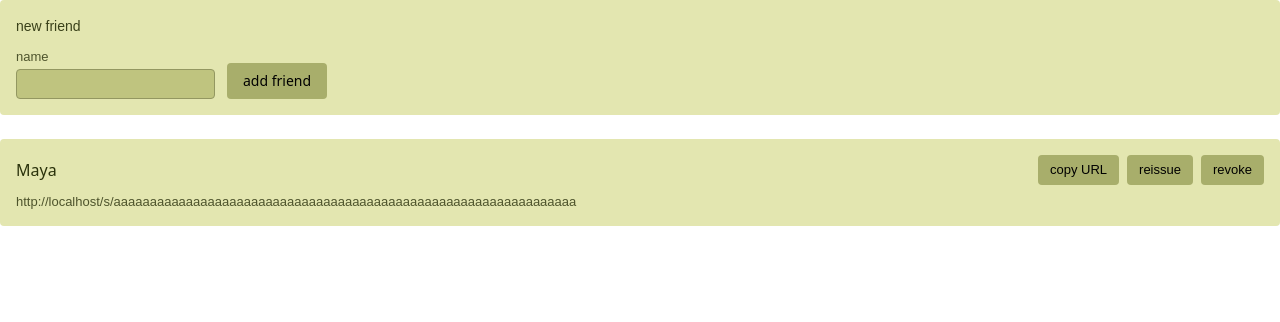
it: Friends › reissue › hedges the failure copy — the client can't know whether the old link survived
The width and height of the screenshot is (1280, 322).
Expected: the text "Maya" is shown, [16, 158, 57, 182]
Step 1. Click the button with aria-label "reissue shelf link for maya" → (1160, 170), box [1127, 155, 1193, 185]
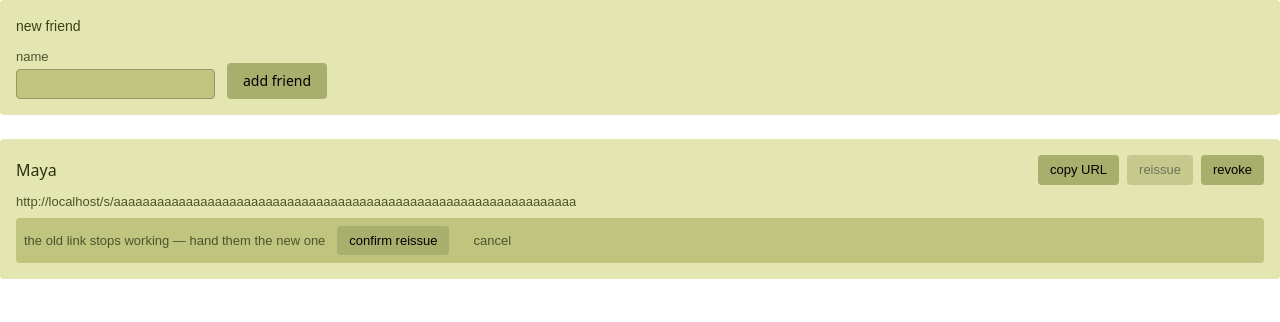
Step 2. Click the button with aria-label "confirm reissue for maya" → (393, 241), box [337, 226, 449, 255]
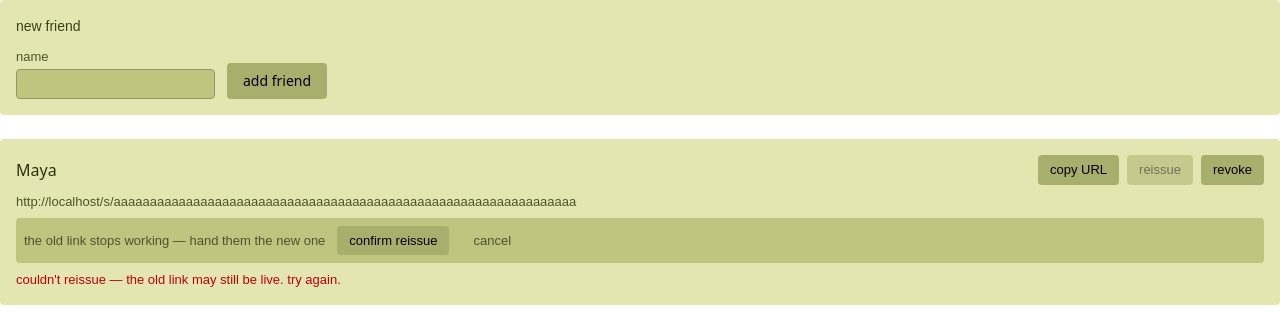
Expected: the message reads "couldn't reissue — the old link may still be live. try again.", [16, 272, 341, 287]
